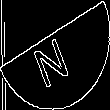N_NW: (33, 24, 77, 86)
